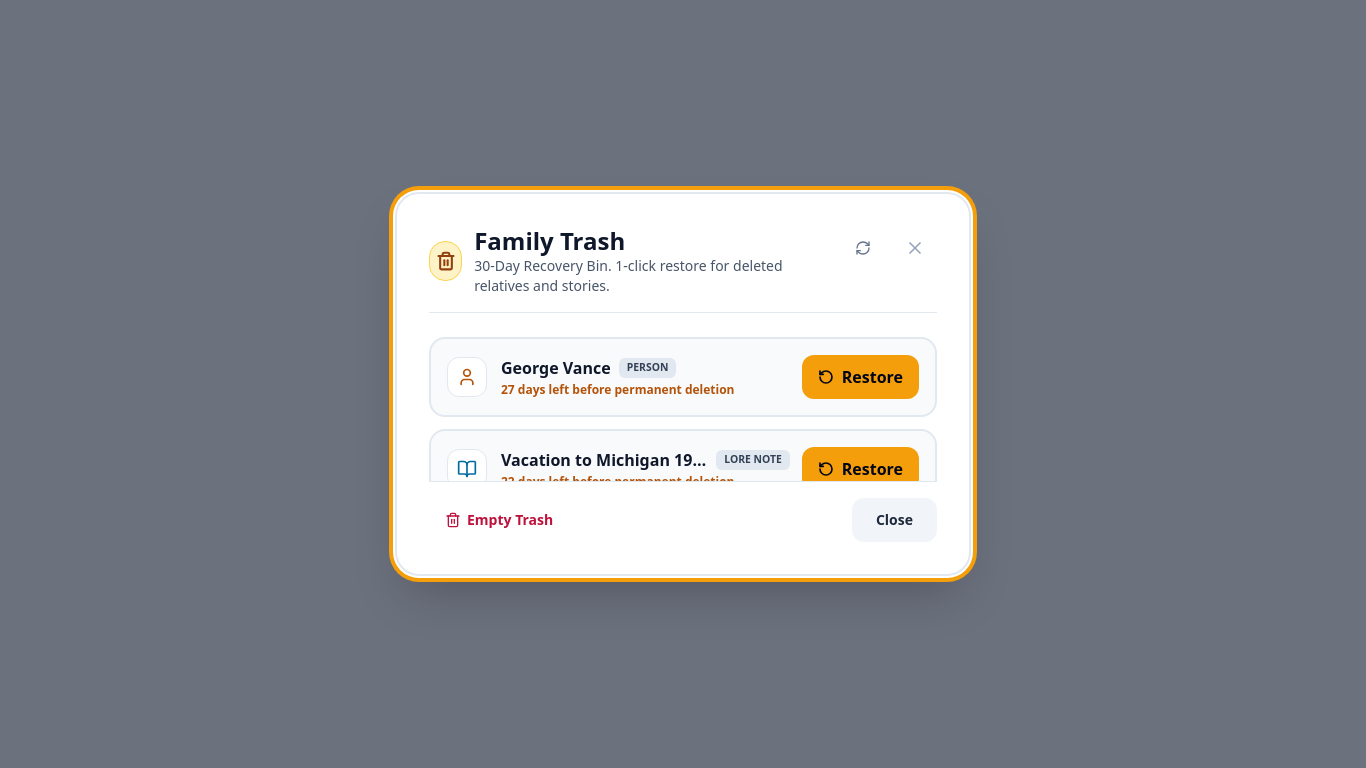
Test: TrashCanModal › restores an item when Restore button is clicked
Expected: the text "George Vance" is shown, [501,356,611,380]
Click the button "Restore" in the row of "Person" at (860, 377), box [802,355,919,399]
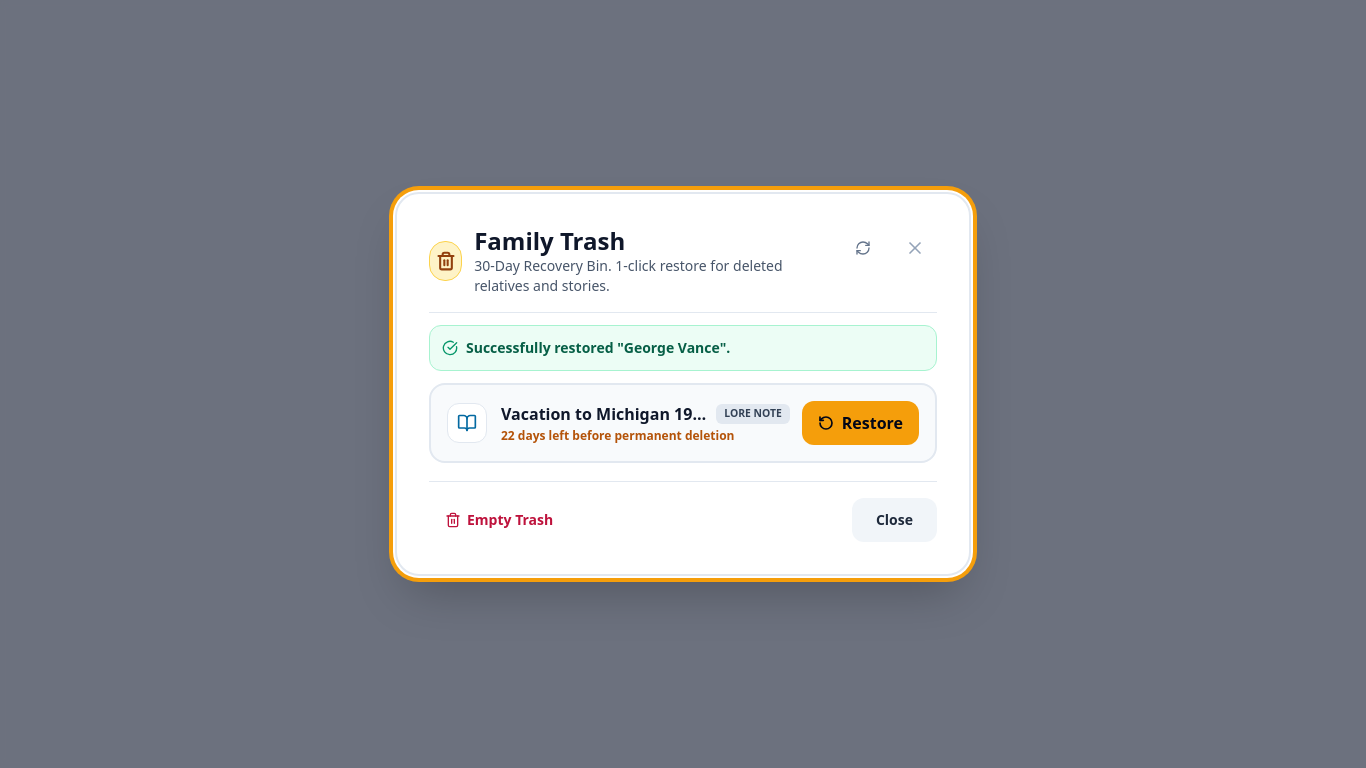
Expected: the text "Successfully restored \"George Vance\"." is shown, [466,338,730,358]
